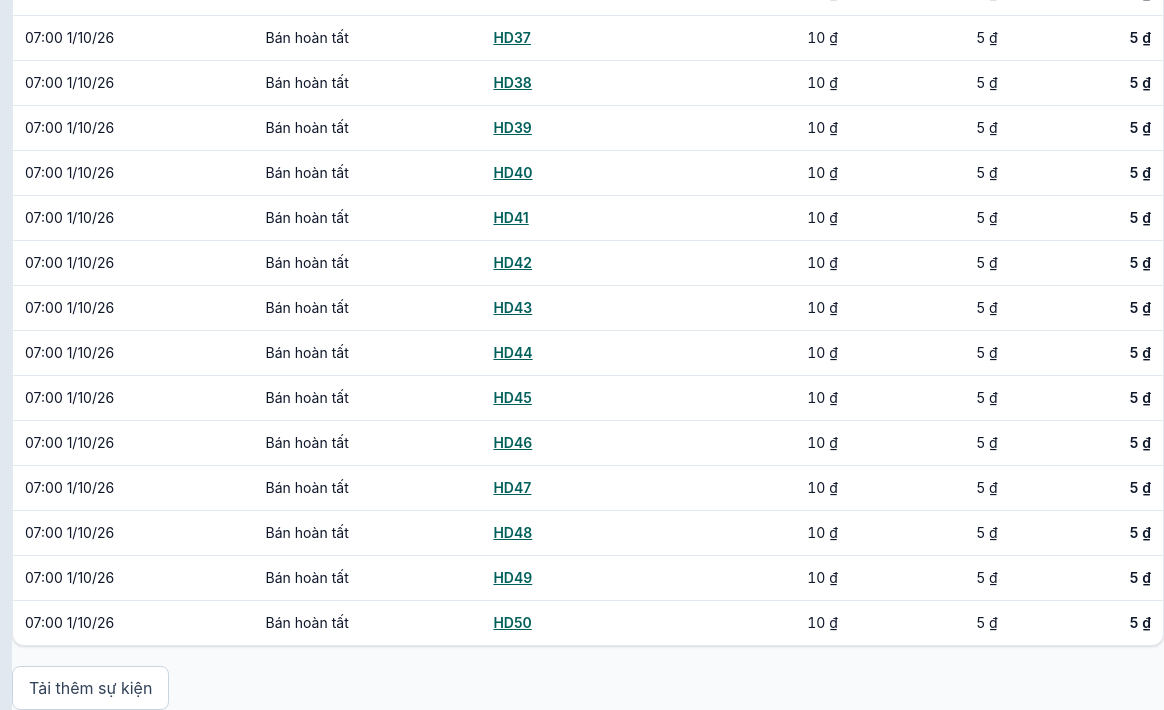
Scenario: stops at the last profit page without duplicating events or changing summary metrics
(page scrolled)
Click the button "Tải thêm sự kiện": (91,688) [12, 666, 169, 709]
(page scrolled)
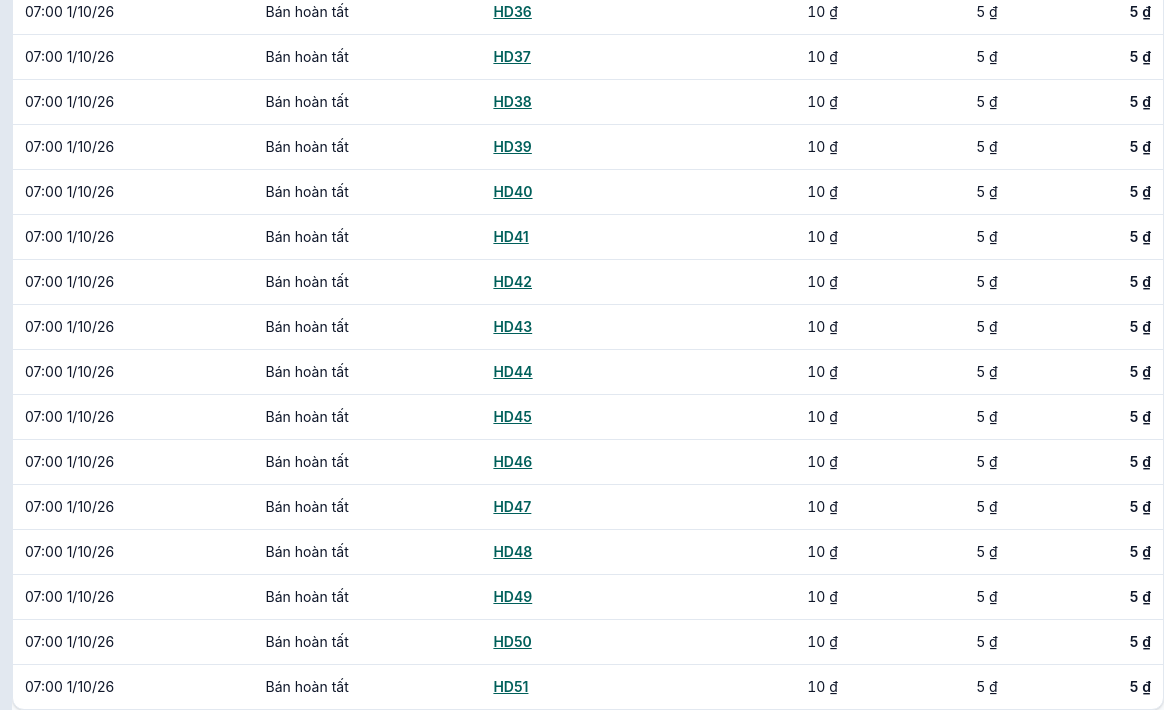
Expected: the link "HD51" is shown, [493, 678, 528, 695]
Expected: the button "Tải thêm sự kiện" is gone
